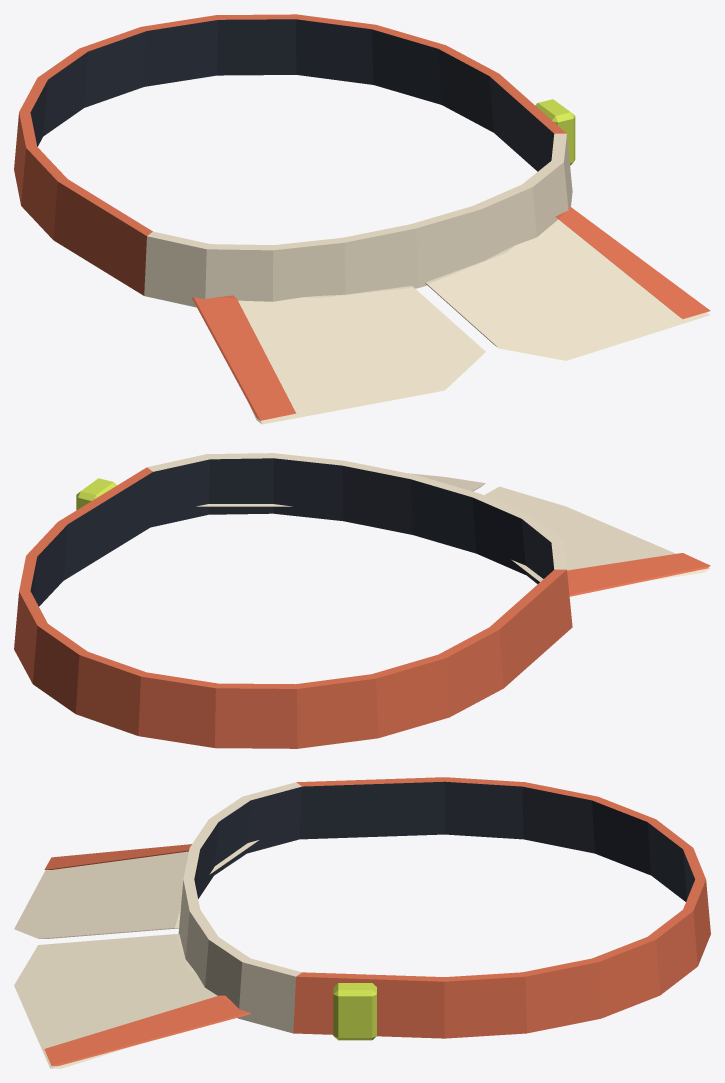
File: hat-sunline-visor.glb
3 views of the same model, one above another, from view 1: azimuth 30°, elevation 25°; view 2: azimuth 150°, elevation 25°; view 3: azimuth 270°, elevation 25° (orthographic). The views are drawn at different scales.
Visible parts, largest first — view 1: hat-sunline-visor_ref2_hat-sunline-visor__head_mesh; view 2: hat-sunline-visor_ref2_hat-sunline-visor__head_mesh; view 3: hat-sunline-visor_ref2_hat-sunline-visor__head_mesh.
Part boxes in pixels (<box>): hat-sunline-visor_ref2_hat-sunline-visor__head_mesh: <box>14,14,710,424</box>; hat-sunline-visor_ref2_hat-sunline-visor__head_mesh: <box>14,453,710,748</box>; hat-sunline-visor_ref2_hat-sunline-visor__head_mesh: <box>14,777,710,1068</box>.
Size of the model in its own units: 0.422 by 0.078 by 0.576.
